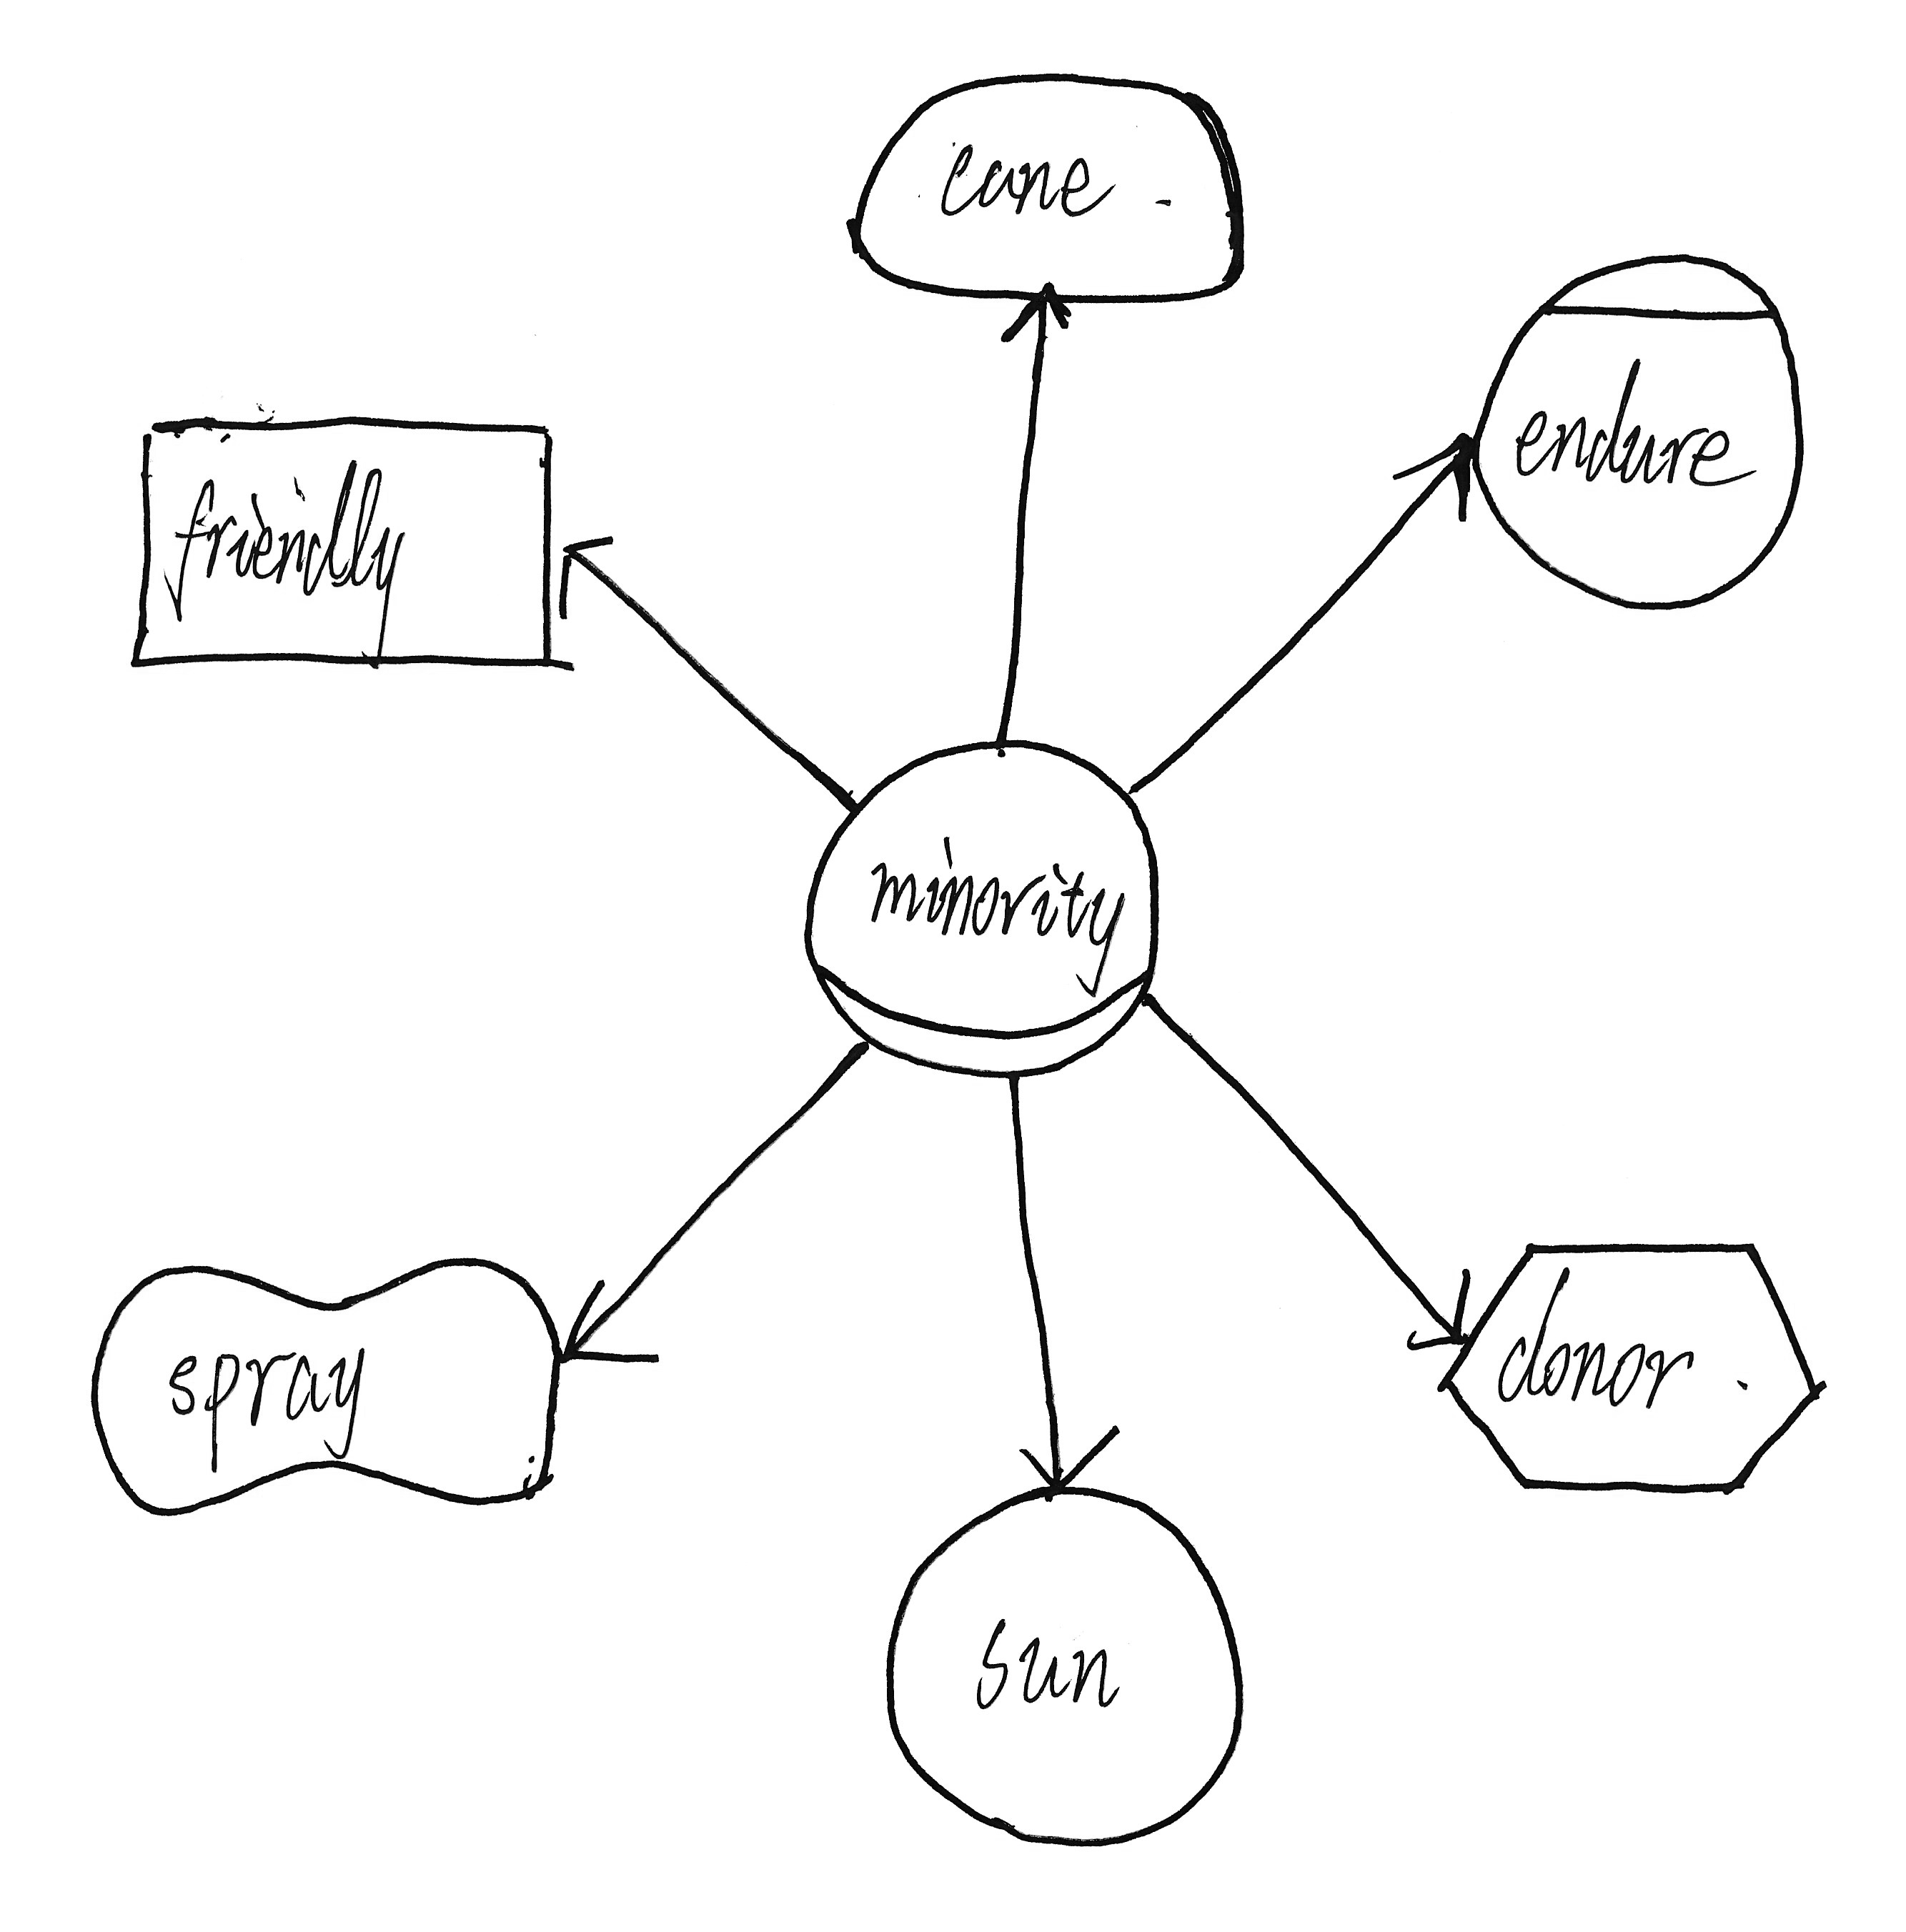actor: (876, 1466, 1265, 1857)
agent: (1443, 229, 1824, 634)
arrow: (550, 1255, 672, 1400), (1382, 415, 1487, 536), (1374, 1243, 1482, 1358), (1007, 1414, 1135, 1506), (546, 524, 639, 635), (991, 279, 1086, 368)
goal: (829, 54, 1267, 325)
quality: (68, 1230, 581, 1527)
resource: (106, 394, 579, 703)
role: (794, 724, 1183, 1100)
task: (1424, 1229, 1840, 1518)
